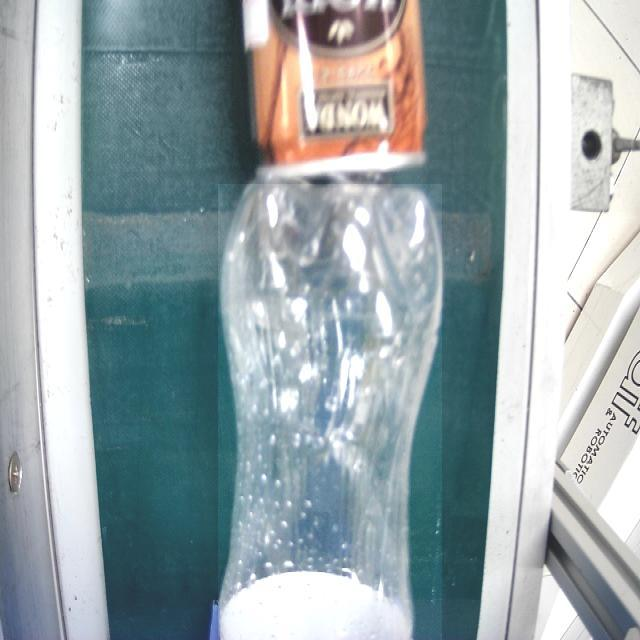Pet_Bottle: (218, 184, 442, 640)
can: (244, 0, 429, 172)
